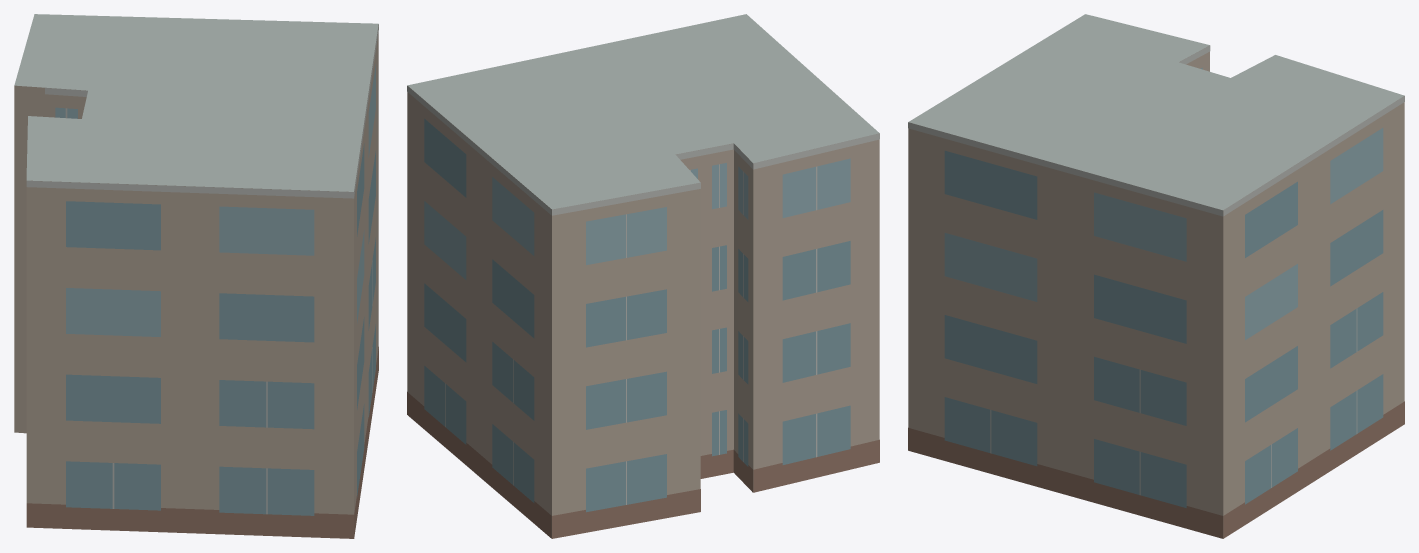
File: survey-upis-32811392.glb
3 views of the same model, side by side, from view 1: azimuth 30°, elevation 25°; view 2: azimuth 150°, elevation 25°; view 3: azimuth 270°, elevation 25° (orthographic). The views are drawn at different scales.
Parts seen in each view (by area): view 1: survey-upis-32811392.tmp; view 2: survey-upis-32811392.tmp; view 3: survey-upis-32811392.tmp.
Part boxes in pixels (box(x1,y1,x2,y2)): survey-upis-32811392.tmp: box(14, 14, 378, 538); survey-upis-32811392.tmp: box(407, 14, 879, 538); survey-upis-32811392.tmp: box(908, 14, 1404, 538).
Size of the model in its own units: 16.55 by 12.9 by 17.68.
